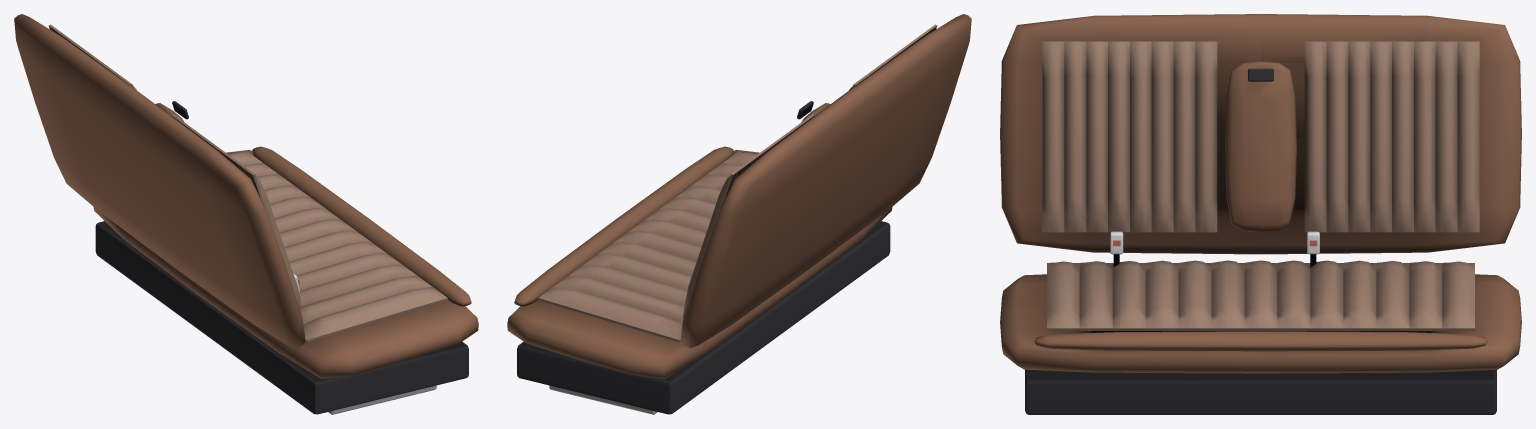
The model's file is seat_bench.glb.
3 renders of one model, left to right at view 1: azimuth 30°, elevation 25°; view 2: azimuth 150°, elevation 25°; view 3: azimuth 270°, elevation 25°, orthographic. The views are drawn at different scales.
Visible parts, largest first — view 1: PART; view 2: PART; view 3: PART.
Boxes of the visible parts, left/top/right/bottom form: PART: left=14, top=14, right=478, bottom=414; PART: left=507, top=14, right=971, bottom=414; PART: left=1000, top=14, right=1521, bottom=414.
Size of the model in its own units: 0.71 by 0.7421 by 1.19.
